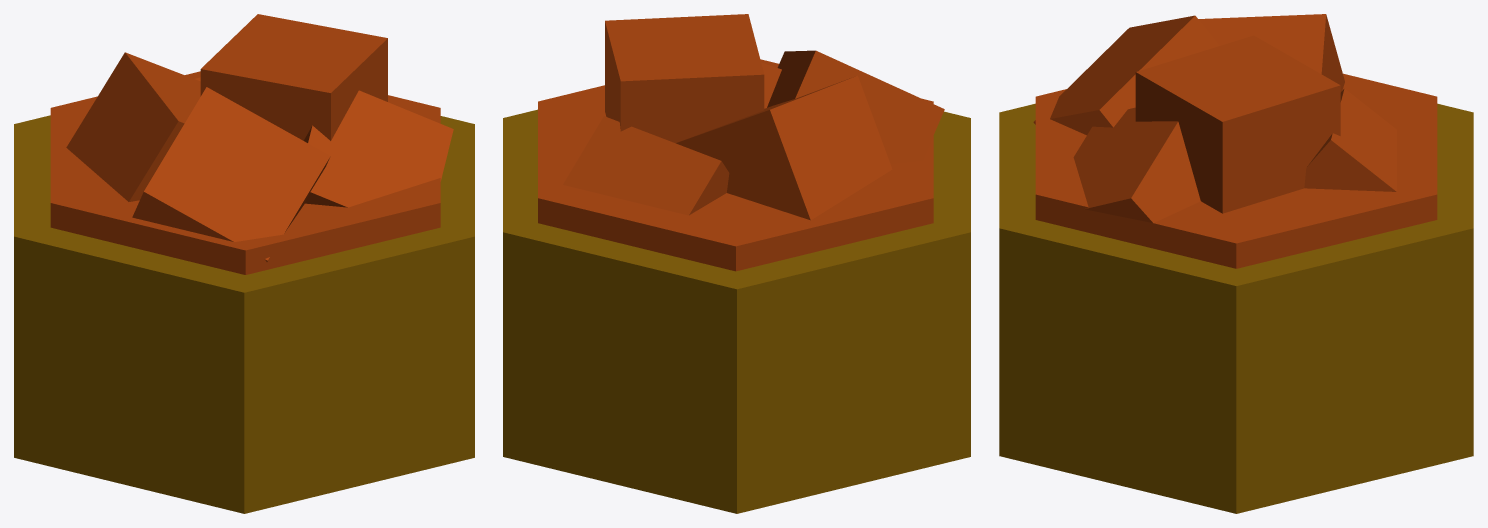
Rendered from applebasket.fbx.
The picture shows the model from 3 angles, left to right: view 1: azimuth 30°, elevation 25°; view 2: azimuth 150°, elevation 25°; view 3: azimuth 270°, elevation 25°; orthographic projection. The views are drawn at different scales.
Parts seen in each view (by area): view 1: polySurface1; view 2: polySurface1; view 3: polySurface1.
Boxes of the visible parts, x1,y1,x2,y2 form: polySurface1: (14, 14, 474, 513); polySurface1: (503, 14, 970, 513); polySurface1: (999, 14, 1473, 513).
Size of the model in its own units: 13.71 by 9.77 by 11.88.
Materials: 1 (1 with a texture image).
